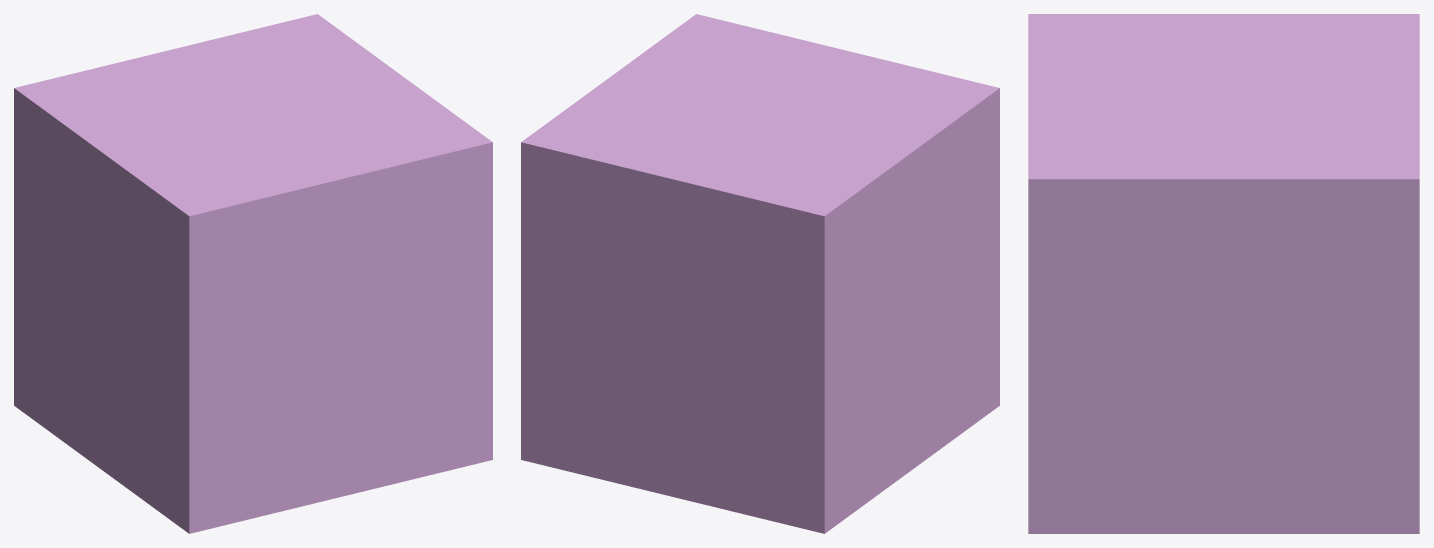
3 renders of one model, left to right at view 1: azimuth 30°, elevation 25°; view 2: azimuth 150°, elevation 25°; view 3: azimuth 270°, elevation 25°, orthographic. The views are drawn at different scales.
Parts seen in each view (by area): view 1: 5x5x5.100, 5x5x5, 5x5x5.025, 5x5x5.050, 5x5x5.075, 5x5x5.103, 5x5x5.102, 5x5x5.101, 5x5x5.104, 5x5x5.105, 5x5x5.115, 5x5x5.110 (+49 smaller); view 2: 5x5x5.120, 5x5x5.020, 5x5x5.045, 5x5x5.070, 5x5x5.095, 5x5x5.123, 5x5x5.122, 5x5x5.121, 5x5x5.124, 5x5x5.115, 5x5x5.105, 5x5x5.110 (+49 smaller); view 3: 5x5x5.104, 5x5x5.124, 5x5x5.109, 5x5x5.119, 5x5x5.114, 5x5x5.079, 5x5x5.099, 5x5x5.084, 5x5x5.094, 5x5x5.089, 5x5x5.004, 5x5x5.009 (+33 smaller).
Boxes of the visible parts, <box> form: 5x5x5.100: <box>154,176,249,279</box>; 5x5x5: <box>154,445,249,533</box>; 5x5x5.025: <box>154,381,249,470</box>; 5x5x5.050: <box>154,318,249,406</box>; 5x5x5.075: <box>154,254,249,343</box>; 5x5x5.103: <box>336,131,432,235</box>; 5x5x5.102: <box>276,146,371,249</box>; 5x5x5.101: <box>215,161,310,264</box>; 5x5x5.104: <box>397,116,492,220</box>; 5x5x5.105: <box>119,150,214,253</box>; 5x5x5.115: <box>49,99,144,202</box>; 5x5x5.110: <box>84,124,179,227</box>; 5x5x5.120: <box>764,176,859,279</box>; 5x5x5.020: <box>764,445,859,533</box>; 5x5x5.045: <box>764,381,859,470</box>; 5x5x5.070: <box>764,318,859,406</box>; 5x5x5.095: <box>764,254,859,343</box>; 5x5x5.123: <box>581,131,677,235</box>; 5x5x5.122: <box>642,146,737,249</box>; 5x5x5.121: <box>703,161,798,264</box>; 5x5x5.124: <box>521,116,616,220</box>; 5x5x5.115: <box>799,150,894,253</box>; 5x5x5.105: <box>869,99,964,202</box>; 5x5x5.110: <box>834,124,929,227</box>; 5x5x5.104: <box>1028,146,1106,250</box>; 5x5x5.124: <box>1341,146,1419,250</box>; 5x5x5.109: <box>1106,146,1184,250</box>; 5x5x5.119: <box>1263,146,1341,250</box>; 5x5x5.114: <box>1185,146,1262,250</box>; 5x5x5.079: <box>1028,250,1106,321</box>; 5x5x5.099: <box>1341,250,1419,321</box>; 5x5x5.084: <box>1106,250,1184,321</box>; 5x5x5.094: <box>1263,250,1341,321</box>; 5x5x5.089: <box>1185,250,1262,321</box>; 5x5x5.004: <box>1028,463,1106,533</box>; 5x5x5.009: <box>1106,463,1184,533</box>.
Bounding box in the file's own units: 205 × 205 × 205.
